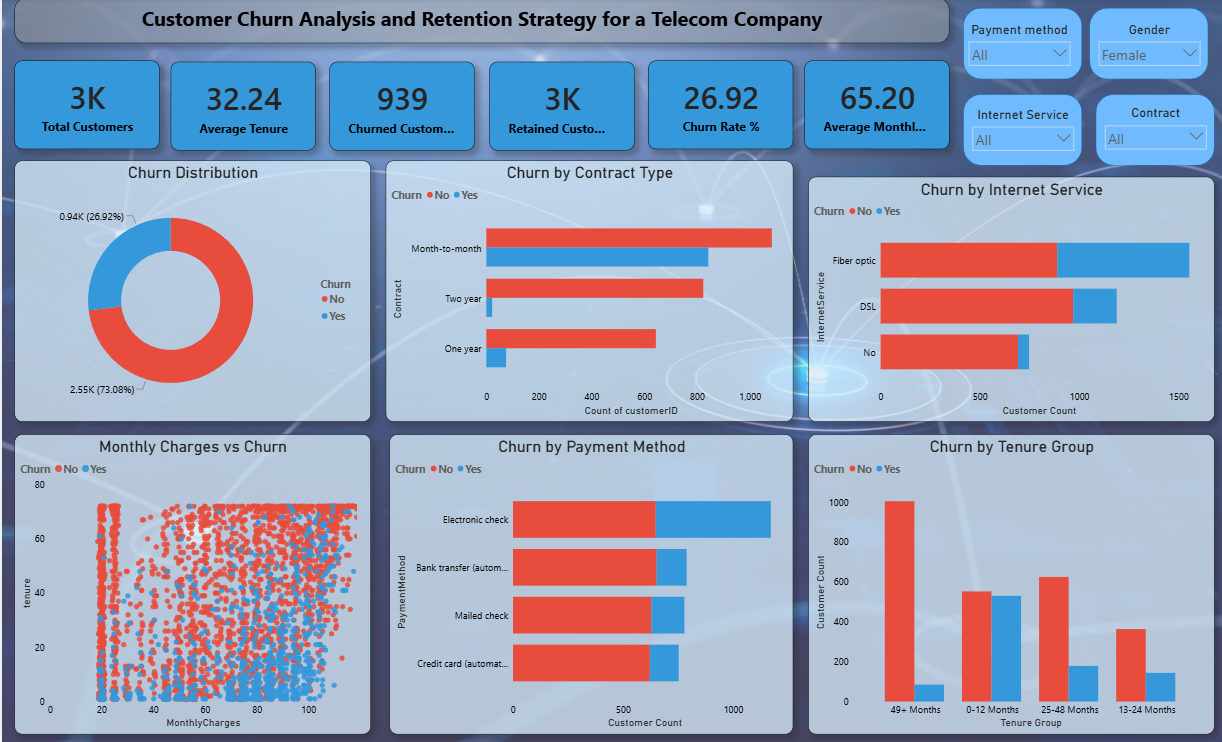

What the dashboard file says about the page in this screenshot:
{"tool":"powerbi","page":{"name":"Page 1","canvas":[2300,1400],"ordinal":0},"visuals":[{"type":"image","box":[0,0,2298.9,1400.5],"z":3000},{"type":"shape","box":[2052.6,180.6,222.9,133.7],"z":3125},{"type":"shape","box":[1804,180.6,222.9,133.7],"z":3250},{"type":"shape","box":[2040.9,18.8,222.9,133.7],"z":3500},{"type":"shape","box":[1804,18.8,222.9,133.7],"z":4000},{"type":"textbox","box":[23.5,0,1754.7,84.5],"z":5000},{"type":"cardVisual","fields":{"Data":["WA_Fn-UseC_-Telco-Customer-Churn.Total Customers"]},"box":[23.5,117.3,272.1,166.6],"z":6000},{"type":"cardVisual","fields":{"Data":["WA_Fn-UseC_-Telco-Customer-Churn.Churned Customers"]},"box":[614.6,119.6,272.1,166.6],"z":7000},{"type":"cardVisual","fields":{"Data":["WA_Fn-UseC_-Telco-Customer-Churn.Retained Customers"]},"box":[914.9,119.6,272.1,166.6],"z":8000},{"type":"cardVisual","fields":{"Data":["WA_Fn-UseC_-Telco-Customer-Churn.Churn Rate %"]},"box":[1212.8,117.3,272.1,166.6],"z":9000},{"type":"cardVisual","fields":{"Data":["WA_Fn-UseC_-Telco-Customer-Churn.Average Tenure"]},"box":[316.7,119.6,272.1,166.6],"z":10000},{"type":"donutChart","title":"Churn Distribution","fields":{"Category":["WA_Fn-UseC_-Telco-Customer-Churn.Churn"],"Y":["CountNonNull(WA_Fn-UseC_-Telco-Customer-Churn.customerID)"]},"box":[23.5,305,668.6,490.3],"z":11000},{"type":"clusteredBarChart","title":"Churn by Contract Type","fields":{"Series":["WA_Fn-UseC_-Telco-Customer-Churn.Churn"],"Category":["WA_Fn-UseC_-Telco-Customer-Churn.Contract"],"Y":["CountNonNull(WA_Fn-UseC_-Telco-Customer-Churn.customerID)"]},"box":[720.2,305,764.7,490.3],"z":12000},{"type":"clusteredColumnChart","title":"Churn by Tenure Group","fields":{"Category":["WA_Fn-UseC_-Telco-Customer-Churn.Tenure Group"],"Y":["WA_Fn-UseC_-Telco-Customer-Churn.Customer Count"],"Series":["WA_Fn-UseC_-Telco-Customer-Churn.Churn"]},"box":[1513.1,818.7,762.4,563],"z":13000},{"type":"scatterChart","title":"Monthly Charges vs Churn","fields":{"X":["WA_Fn-UseC_-Telco-Customer-Churn.MonthlyCharges"],"Y":["WA_Fn-UseC_-Telco-Customer-Churn.tenure"],"Series":["WA_Fn-UseC_-Telco-Customer-Churn.Churn"]},"box":[23.5,818.7,668.6,563],"z":14000},{"type":"barChart","title":"Churn by Internet Service","fields":{"Category":["WA_Fn-UseC_-Telco-Customer-Churn.InternetService"],"Y":["WA_Fn-UseC_-Telco-Customer-Churn.Customer Count"],"Series":["WA_Fn-UseC_-Telco-Customer-Churn.Churn"]},"box":[1513.1,335.5,762.4,459.8],"z":15000},{"type":"barChart","title":"Churn by Payment Method","fields":{"Category":["WA_Fn-UseC_-Telco-Customer-Churn.PaymentMethod"],"Y":["WA_Fn-UseC_-Telco-Customer-Churn.Customer Count"],"Series":["WA_Fn-UseC_-Telco-Customer-Churn.Churn"]},"box":[727.2,818.7,757.7,563],"z":16000},{"type":"cardVisual","fields":{"Data":["WA_Fn-UseC_-Telco-Customer-Churn.Average Monthly Charges"]},"box":[1506,117.3,272.1,166.6],"z":17000},{"type":"slicer","title":"Gender","fields":{"Values":["WA_Fn-UseC_-Telco-Customer-Churn.gender"]},"box":[2047.9,44.6,211.1,107.9],"z":18000},{"type":"slicer","title":"Contract","fields":{"Values":["WA_Fn-UseC_-Telco-Customer-Churn.Contract"]},"box":[2059.7,201.7,211.1,133.7],"z":19000},{"type":"slicer","title":"Internet Service","fields":{"Values":["WA_Fn-UseC_-Telco-Customer-Churn.InternetService"]},"box":[1811,204.1,211.1,114.9],"z":20000},{"type":"slicer","title":"Payment method","fields":{"Values":["WA_Fn-UseC_-Telco-Customer-Churn.PaymentMethod"]},"box":[1804,44.6,211.1,117.3],"z":21000}]}

Visuals, with their boxes in screenshot pixels (x1, y1, x2, y2), scaled from the page's 2300x1400 canvas onto the 1222x742 screenshot:
image: crop(0, 0, 1221, 741)
shape: crop(1091, 96, 1209, 167)
shape: crop(958, 96, 1077, 167)
shape: crop(1084, 10, 1203, 81)
shape: crop(958, 10, 1077, 81)
textbox: crop(12, 0, 945, 45)
cardVisual - WA_Fn-UseC_-Telco-Customer-Churn.Total Customers: crop(12, 62, 157, 150)
cardVisual - WA_Fn-UseC_-Telco-Customer-Churn.Churned Customers: crop(327, 63, 471, 152)
cardVisual - WA_Fn-UseC_-Telco-Customer-Churn.Retained Customers: crop(486, 63, 631, 152)
cardVisual - WA_Fn-UseC_-Telco-Customer-Churn.Churn Rate %: crop(644, 62, 789, 150)
cardVisual - WA_Fn-UseC_-Telco-Customer-Churn.Average Tenure: crop(168, 63, 313, 152)
"Churn Distribution" donutChart: crop(12, 162, 368, 422)
"Churn by Contract Type" clusteredBarChart: crop(383, 162, 789, 422)
"Churn by Tenure Group" clusteredColumnChart: crop(804, 434, 1209, 732)
"Monthly Charges vs Churn" scatterChart: crop(12, 434, 368, 732)
"Churn by Internet Service" barChart: crop(804, 178, 1209, 422)
"Churn by Payment Method" barChart: crop(386, 434, 789, 732)
cardVisual - WA_Fn-UseC_-Telco-Customer-Churn.Average Monthly Charges: crop(800, 62, 945, 150)
"Gender" slicer: crop(1088, 24, 1200, 81)
"Contract" slicer: crop(1094, 107, 1206, 178)
"Internet Service" slicer: crop(962, 108, 1074, 169)
"Payment method" slicer: crop(958, 24, 1071, 86)
